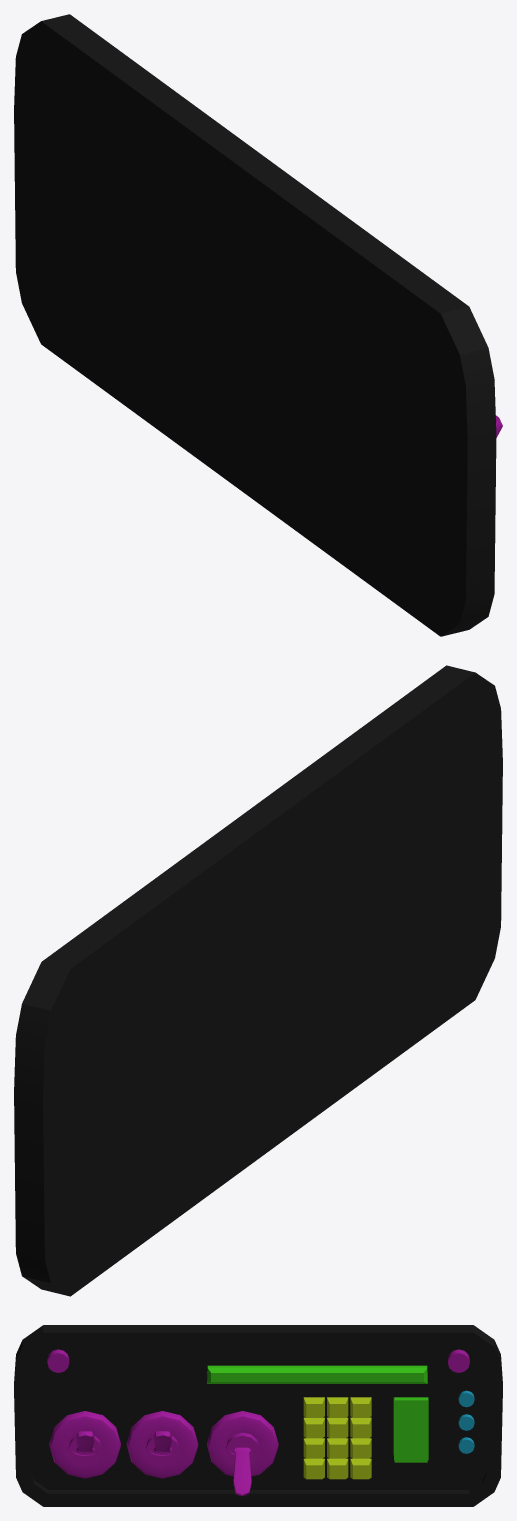
The model's file is control_panel.fbx.
3 views of the same model, one above another, from view 1: azimuth 30°, elevation 25°; view 2: azimuth 150°, elevation 25°; view 3: azimuth 270°, elevation 25° (orthographic). The views are drawn at different scales.
Parts seen in each view (by area): view 1: Box017; view 2: Box017; view 3: Box017.
Part boxes in pixels (left/top/right/bottom): Box017: left=14, top=14, right=502, bottom=636; Box017: left=14, top=665, right=502, bottom=1296; Box017: left=14, top=1325, right=502, bottom=1506.
Size of the model in its own units: 0.1055 by 0.3332 by 0.848.
